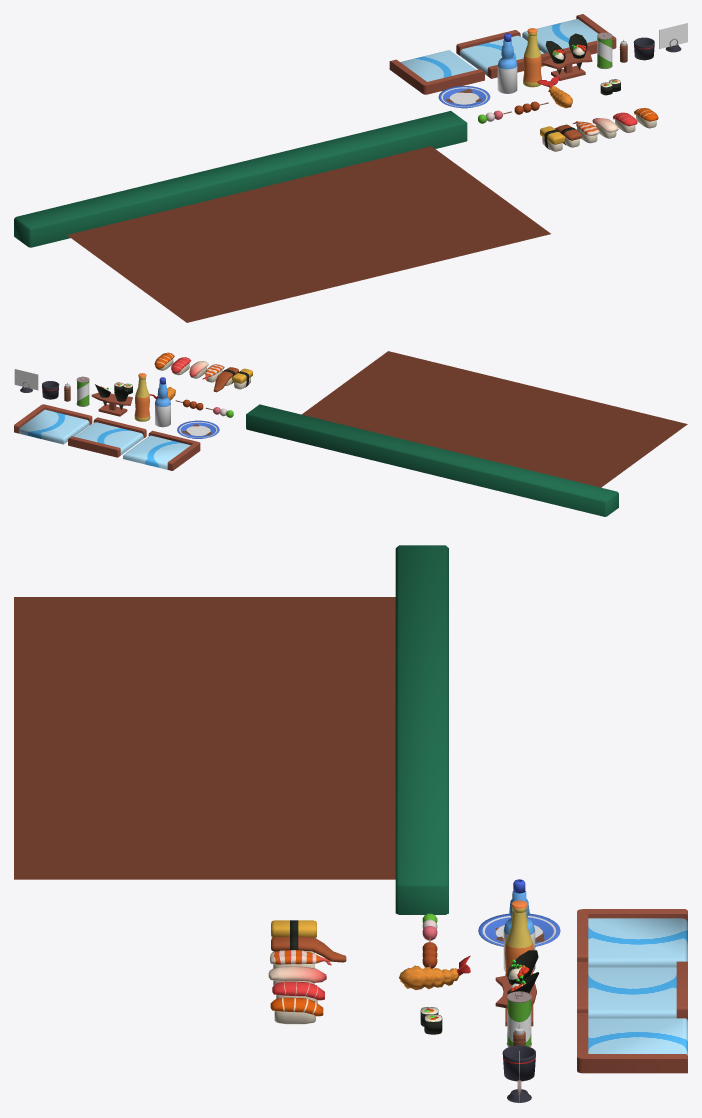
Rendered from obj0526_sushi_CC.fbx.
The picture shows the model from 3 angles, top to bottom: view 1: azimuth 30°, elevation 25°; view 2: azimuth 150°, elevation 25°; view 3: azimuth 270°, elevation 25°; orthographic projection. The views are drawn at different scales.
Parts seen in each view (by area): view 1: chop, marble, rail roll.002, rail roll, rail roll.001, demaki, ramune, bottle, dish, sign, can, ebi (+1 smaller); view 2: chop, marble, rail roll.001, rail roll, rail roll.002, demaki, ramune, bottle, dish, sign, can, sushi eel (+3 smaller); view 3: chop, marble, rail roll.002, rail roll.001, rail roll, demaki, dish, ebi, bottle, sushi salmon, can, miso (+3 smaller).
Boxes of the visible parts, x1,y1,x2,y2 form: chop: [67, 146, 550, 322]; marble: [14, 111, 467, 247]; rail roll.002: [389, 50, 484, 94]; rail roll: [456, 30, 551, 78]; rail roll.001: [522, 14, 616, 54]; demaki: [542, 33, 592, 80]; ramune: [497, 33, 517, 93]; bottle: [523, 28, 541, 87]; dish: [438, 86, 490, 108]; sign: [659, 23, 687, 52]; can: [597, 32, 612, 69]; ebi: [537, 76, 572, 108]; chop: [302, 351, 687, 487]; marble: [246, 404, 618, 516]; rail roll.001: [14, 404, 92, 444]; rail roll: [68, 417, 146, 457]; rail roll.002: [123, 430, 200, 470]; demaki: [91, 384, 132, 416]; ramune: [155, 377, 170, 427]; bottle: [134, 373, 150, 421]; dish: [177, 420, 219, 438]; sign: [14, 369, 38, 392]; can: [76, 376, 89, 406]; sushi eel: [213, 367, 238, 392]; chop: [14, 597, 395, 879]; marble: [395, 545, 448, 914]; rail roll.002: [577, 909, 687, 967]; rail roll.001: [577, 1012, 687, 1073]; rail roll: [577, 961, 687, 1020]; demaki: [495, 950, 538, 1026]; dish: [478, 913, 560, 946]; ebi: [399, 955, 470, 989]; bottle: [504, 900, 533, 975]; sushi salmon: [270, 997, 323, 1024]; can: [506, 991, 531, 1046]; miso: [502, 1045, 535, 1081].
Bounding box in the file's own units: 23.04 × 1.88 × 12.14.
